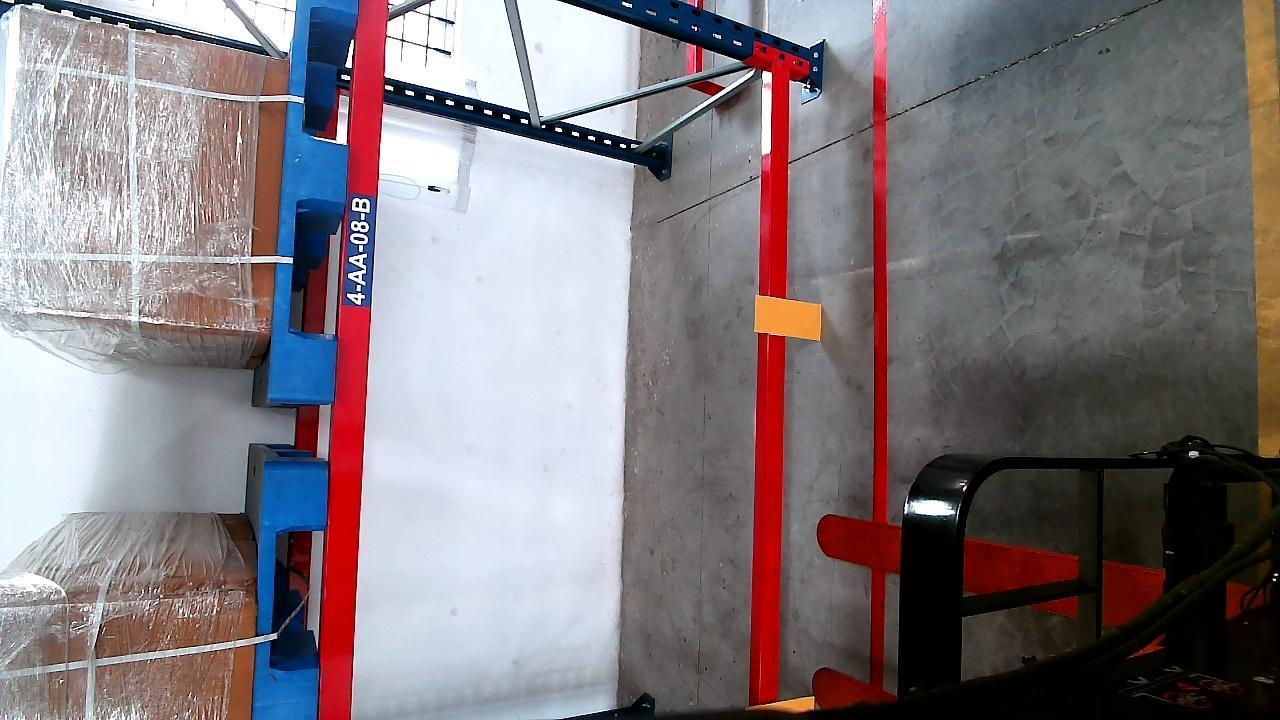h_rack: (753, 72, 793, 701)
orange_strip: (757, 295, 824, 338)
red_line: (870, 0, 894, 541)
small_pallet: (268, 0, 356, 403), (254, 464, 328, 718)
yellow_line: (1247, 0, 1279, 458)
